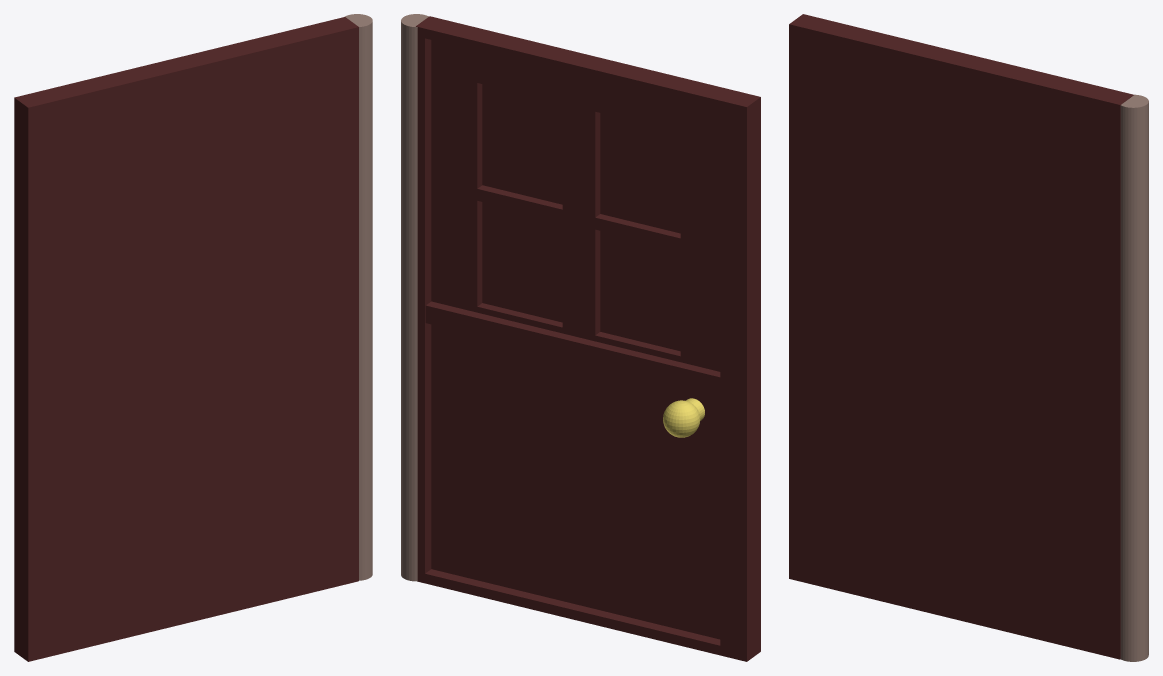
File: porta 1.fbx
The picture shows the model from 3 angles, left to right: view 1: azimuth 30°, elevation 25°; view 2: azimuth 150°, elevation 25°; view 3: azimuth 330°, elevation 25°; orthographic projection.
Visible parts, largest first — view 1: Cube, Cylinder.001; view 2: Cube, Cylinder.001, Sphere; view 3: Cube, Cylinder.001.
Boxes of the visible parts, x1,y1,x2,y2 form: Cube: (14, 17, 358, 661); Cylinder.001: (344, 14, 372, 580); Cube: (416, 16, 760, 661); Cylinder.001: (401, 14, 428, 581); Sphere: (663, 400, 700, 437); Cube: (789, 14, 1133, 659); Cylinder.001: (1120, 94, 1148, 661).
Bounding box in the file's own units: 574 × 869 × 86.57.
